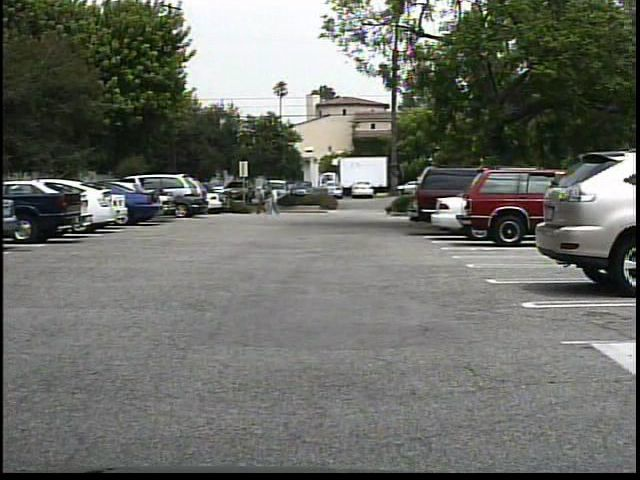person: (253, 185, 269, 217), (270, 186, 284, 219), (264, 185, 277, 216)
